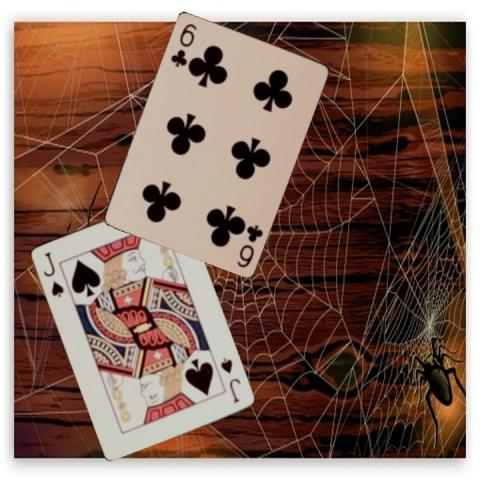6c: (167, 20, 198, 68), (234, 221, 265, 269)
Js: (39, 248, 65, 299), (217, 355, 242, 404)
